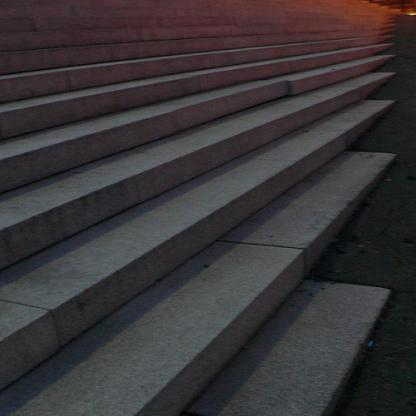stairs: (3, 162, 352, 416)
